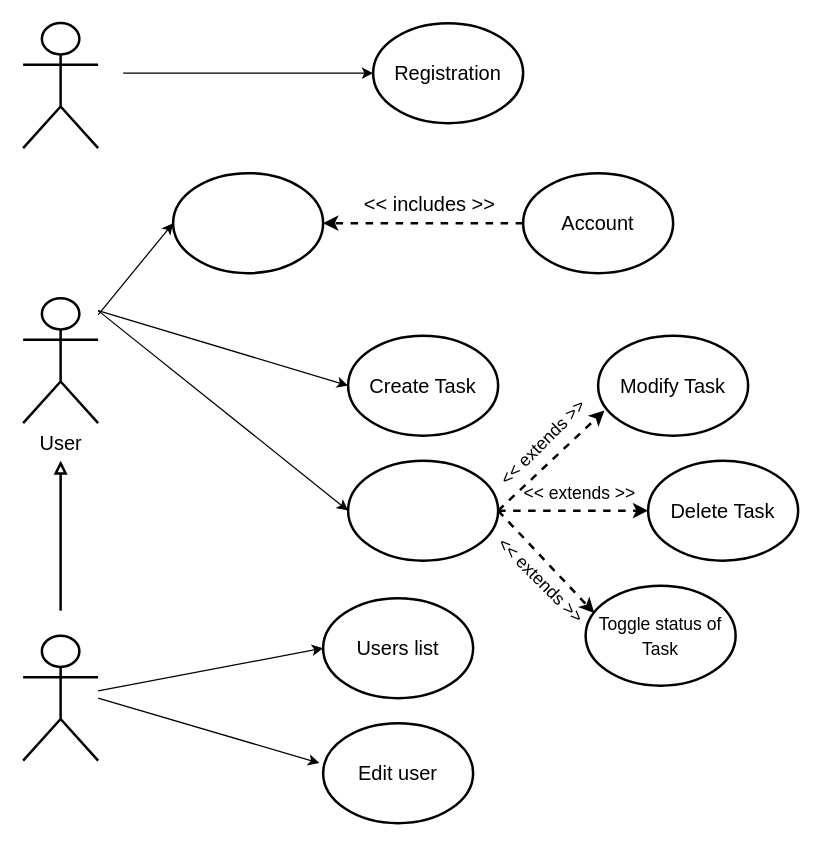
Some shapes in this 820 by 845 pixel diagram are drawn without their labels. Each missing label, with the box of its shape:
Admin: (21, 634, 99, 761)
Login: (171, 171, 324, 274)
Task list: (346, 459, 499, 561)
Visitor: (21, 21, 99, 149)
